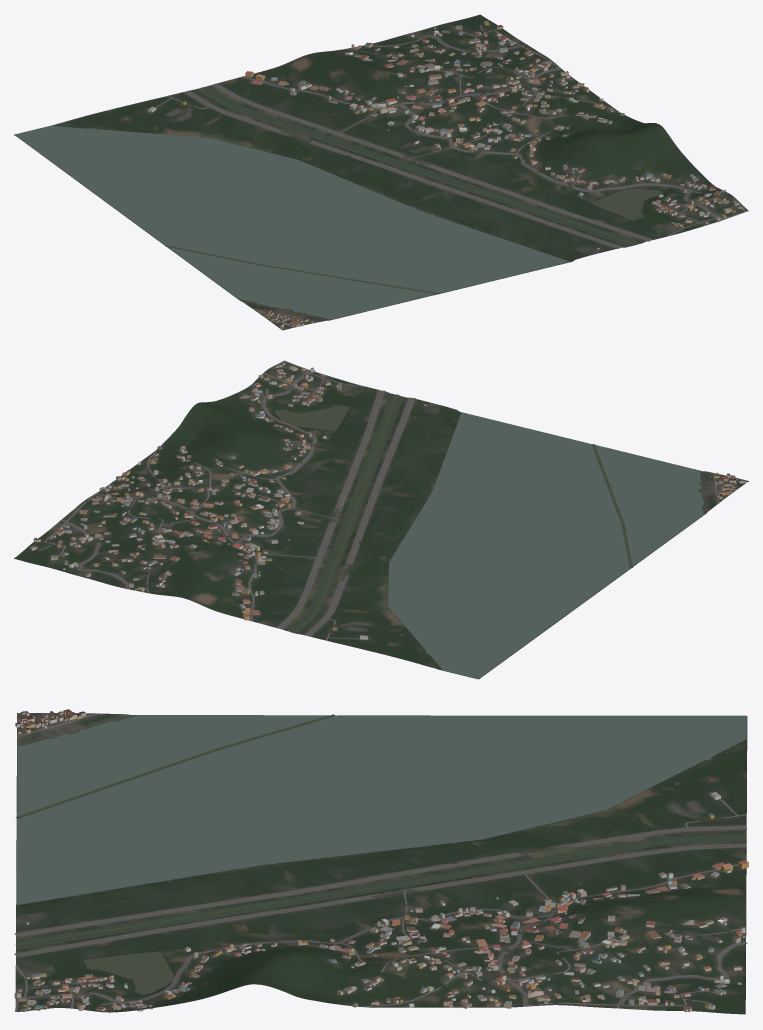
3 renders of one model, top to bottom at view 1: azimuth 30°, elevation 25°; view 2: azimuth 150°, elevation 25°; view 3: azimuth 270°, elevation 25°, orthographic. The views are drawn at different scales.
Parts seen in each view (by area): view 1: ground, water, buildings, roads; view 2: ground, water, buildings, roads; view 3: water, ground, buildings, roads.
Boxes of the visible parts, x1,y1,x2,y2 form: ground: (14,14,748,330); water: (15,86,662,319); buildings: (148,21,744,328); roads: (155,25,748,328); ground: (14,361,748,679); water: (275,393,704,678); buildings: (30,361,746,639); roads: (39,360,742,640); water: (15,714,746,994); ground: (15,713,747,1014); buildings: (14,709,748,1012); roads: (14,713,747,1011).
Bounding box in the file's own units: 1408 × 85.8 × 1411.
